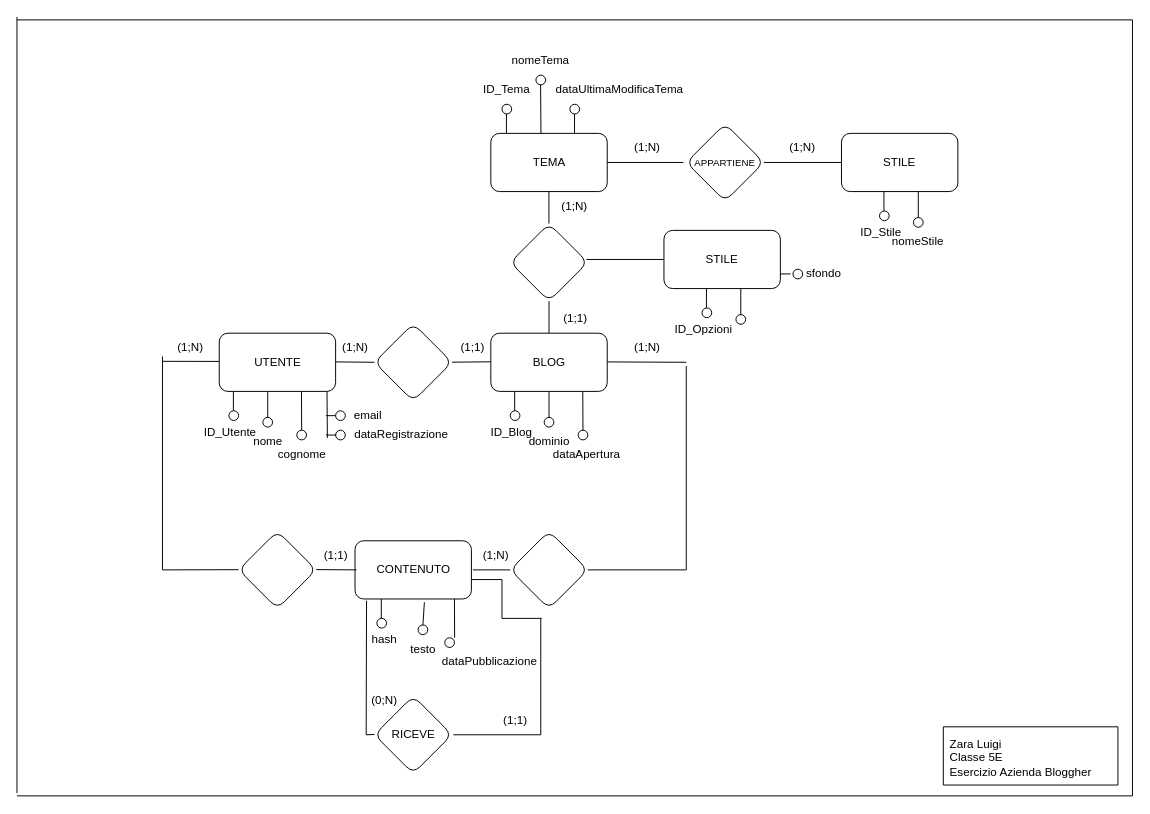
The diagram is 1150 pixels wide and 814 high, and some of its shapes have lost their labels. The shapes that lost their labels are listed below. From the top down, each one's box as (x1, y1, x2, y2) in pixels, then its label:
(509, 223, 588, 301): USA
(373, 323, 452, 401): CREA
(238, 530, 316, 609): SCRIVE
(509, 530, 588, 609): CONTIENE
